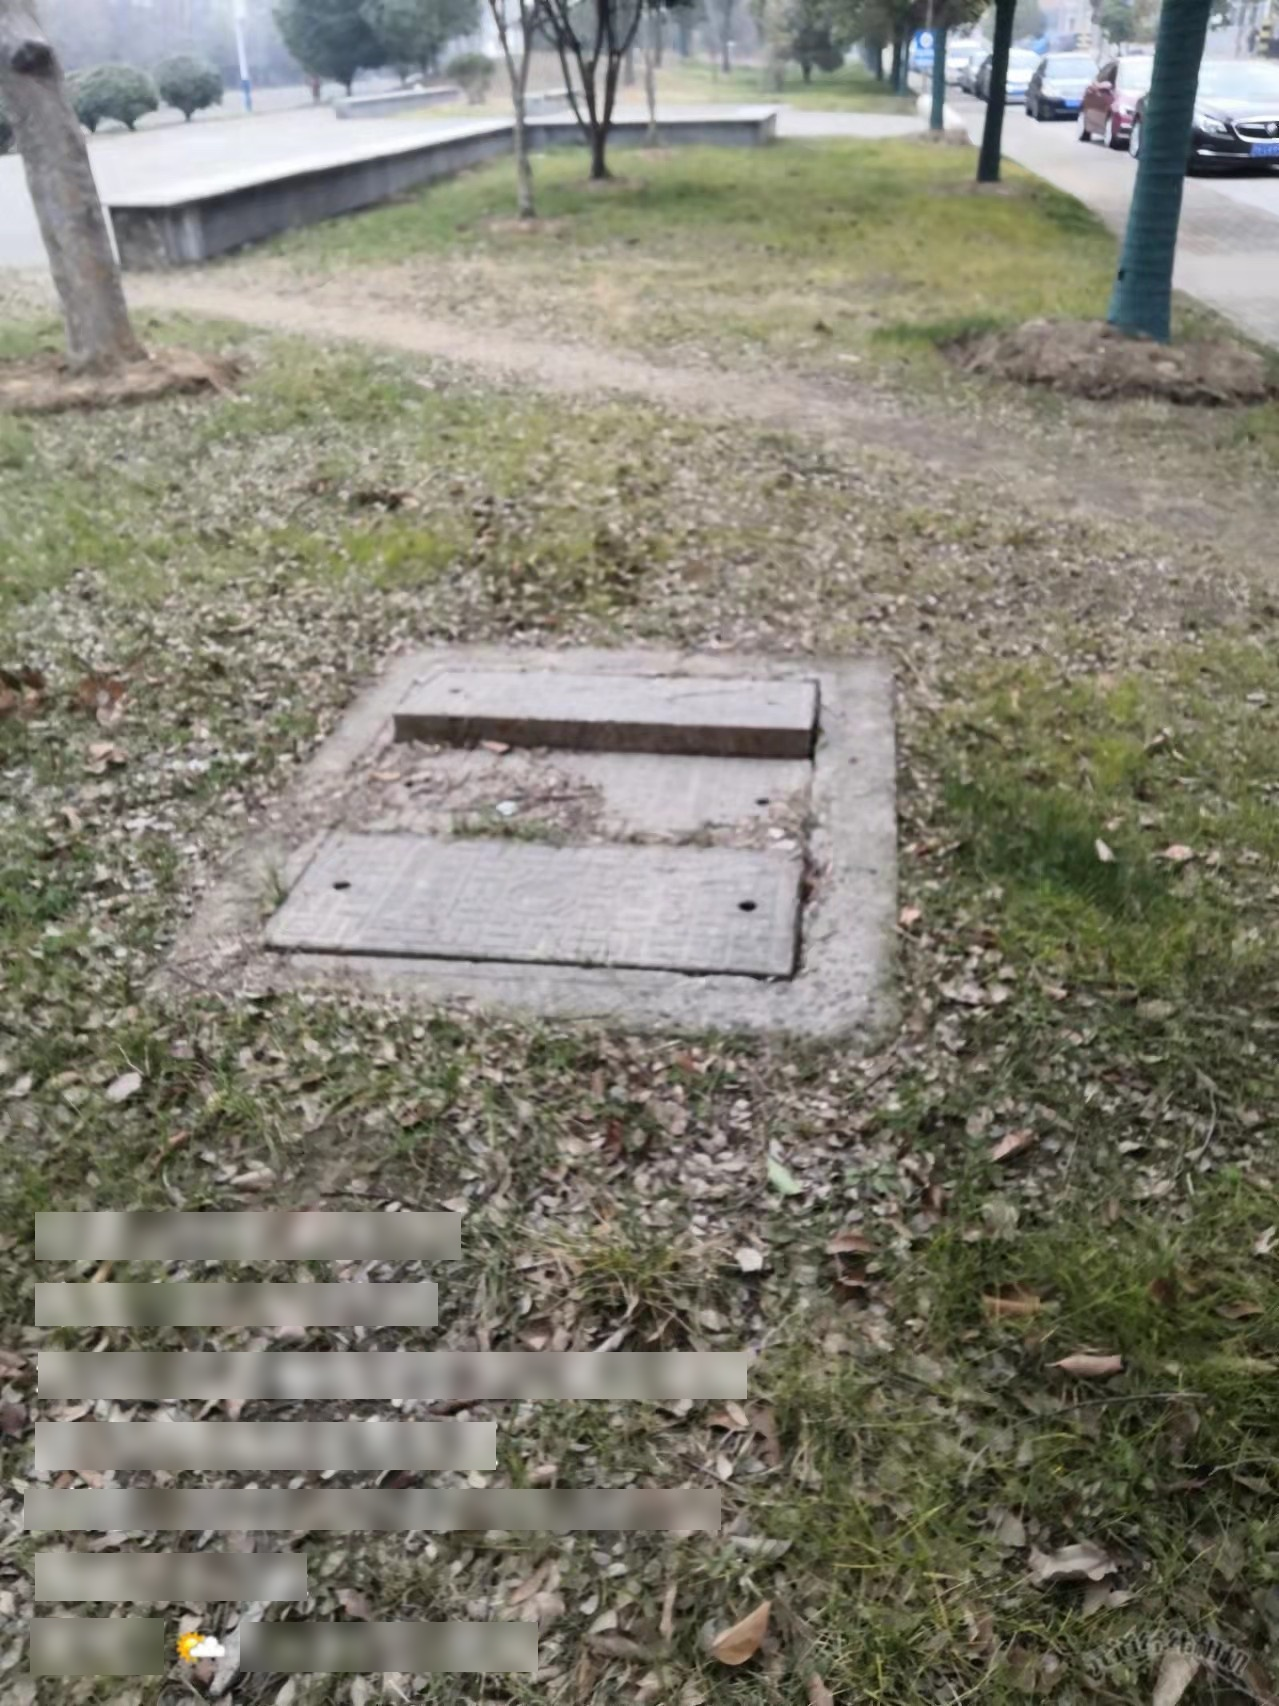uncovered: (251, 656, 838, 977)
